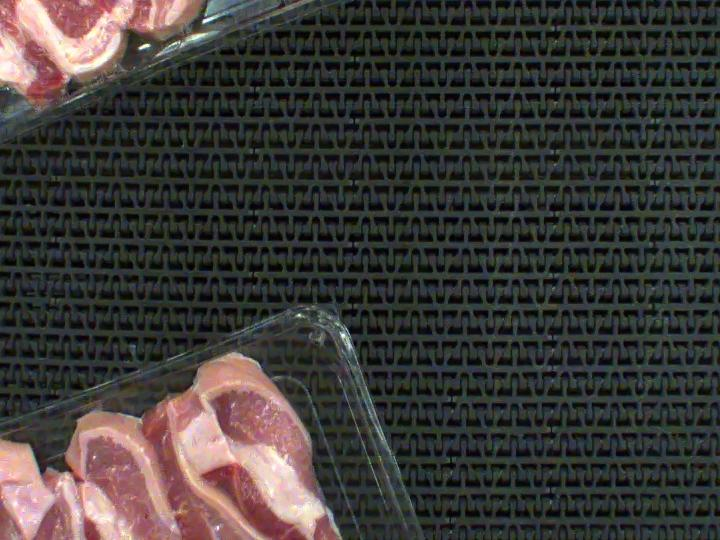twisted-meat: (0, 464, 174, 540)
